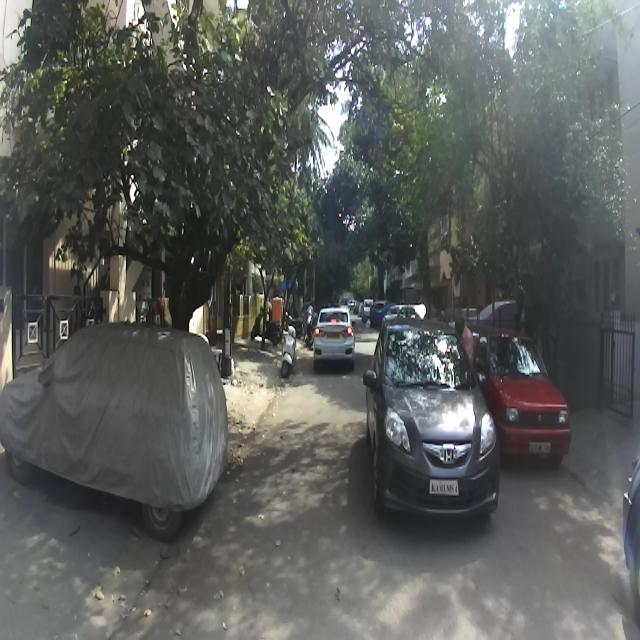Car: (1, 320, 227, 540)
Car_Honda: (362, 313, 498, 519)
Car_Maruti-Suzuki: (467, 324, 571, 466), (312, 304, 356, 370)
scooter: (278, 323, 296, 376)
